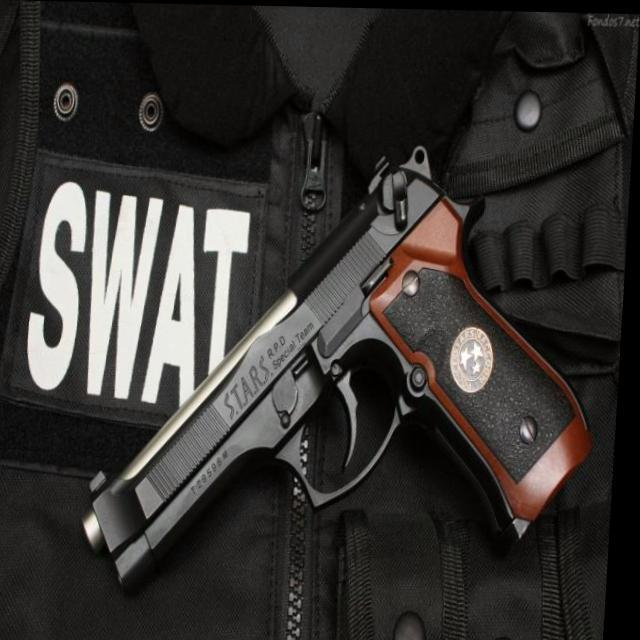weapon: (85, 138, 612, 600)
